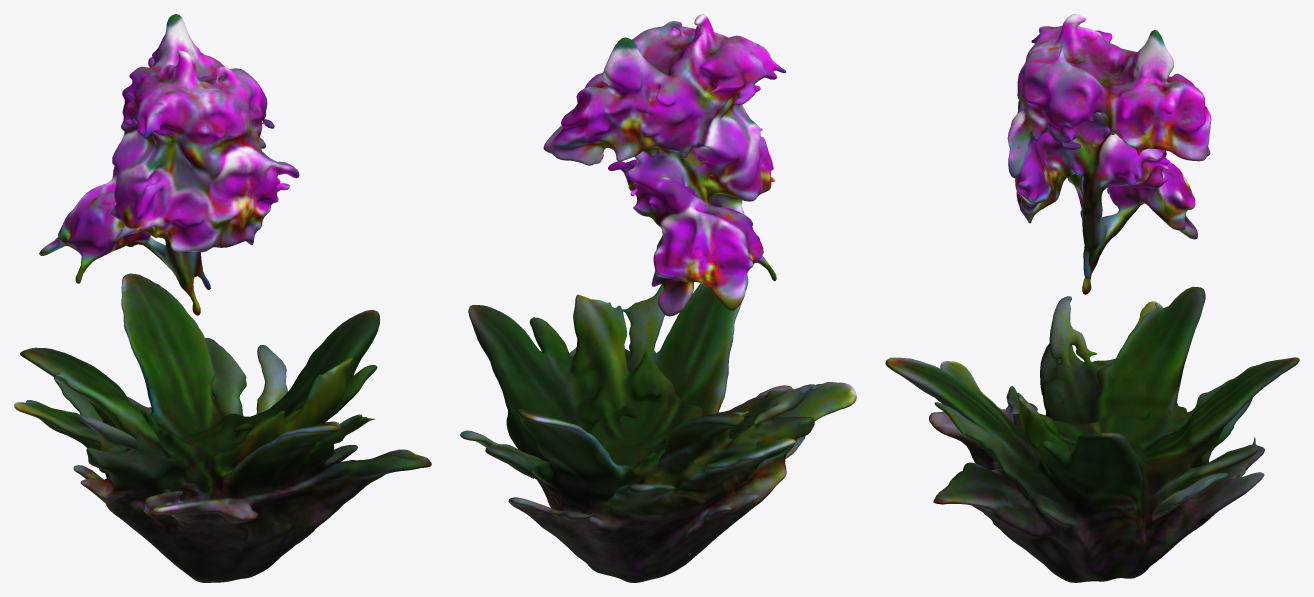
Rendered from orchid.glb.
3 views of the same model, side by side, from view 1: azimuth 30°, elevation 25°; view 2: azimuth 150°, elevation 25°; view 3: azimuth 270°, elevation 25° (orthographic). The views are drawn at different scales.
Parts seen in each view (by area): view 1: geometry_0; view 2: geometry_0; view 3: geometry_0.
Boxes of the visible parts, x1,y1,x2,y2 form: geometry_0: (14, 14, 431, 582); geometry_0: (460, 14, 856, 582); geometry_0: (885, 14, 1299, 582).
Bounding box in the file's own units: 0.3528 × 0.5412 × 0.3764.
Materials: 1 (1 with a texture image).
